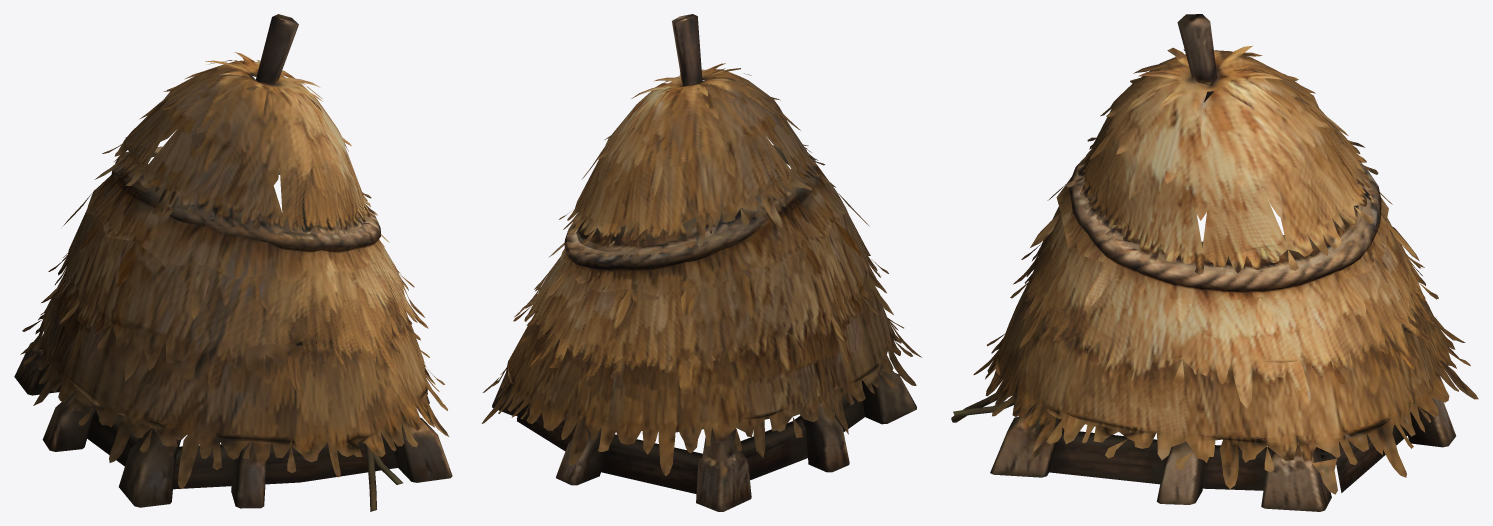
File: act1_kit_v1_hay_rick.glb
The picture shows the model from 3 angles, left to right: view 1: azimuth 30°, elevation 25°; view 2: azimuth 150°, elevation 25°; view 3: azimuth 270°, elevation 25°; orthographic projection. The views are drawn at different scales.
Visible parts, largest first — view 1: act1_kit_v1_hay_rick; view 2: act1_kit_v1_hay_rick; view 3: act1_kit_v1_hay_rick.
Part boxes in pixels (bbox=[...]): act1_kit_v1_hay_rick: bbox=[14, 14, 452, 511]; act1_kit_v1_hay_rick: bbox=[481, 14, 921, 511]; act1_kit_v1_hay_rick: bbox=[951, 14, 1478, 511].
Bounding box in the file's own units: 0.8216 × 0.8789 × 1.
Materials: 1 (1 with a texture image).
